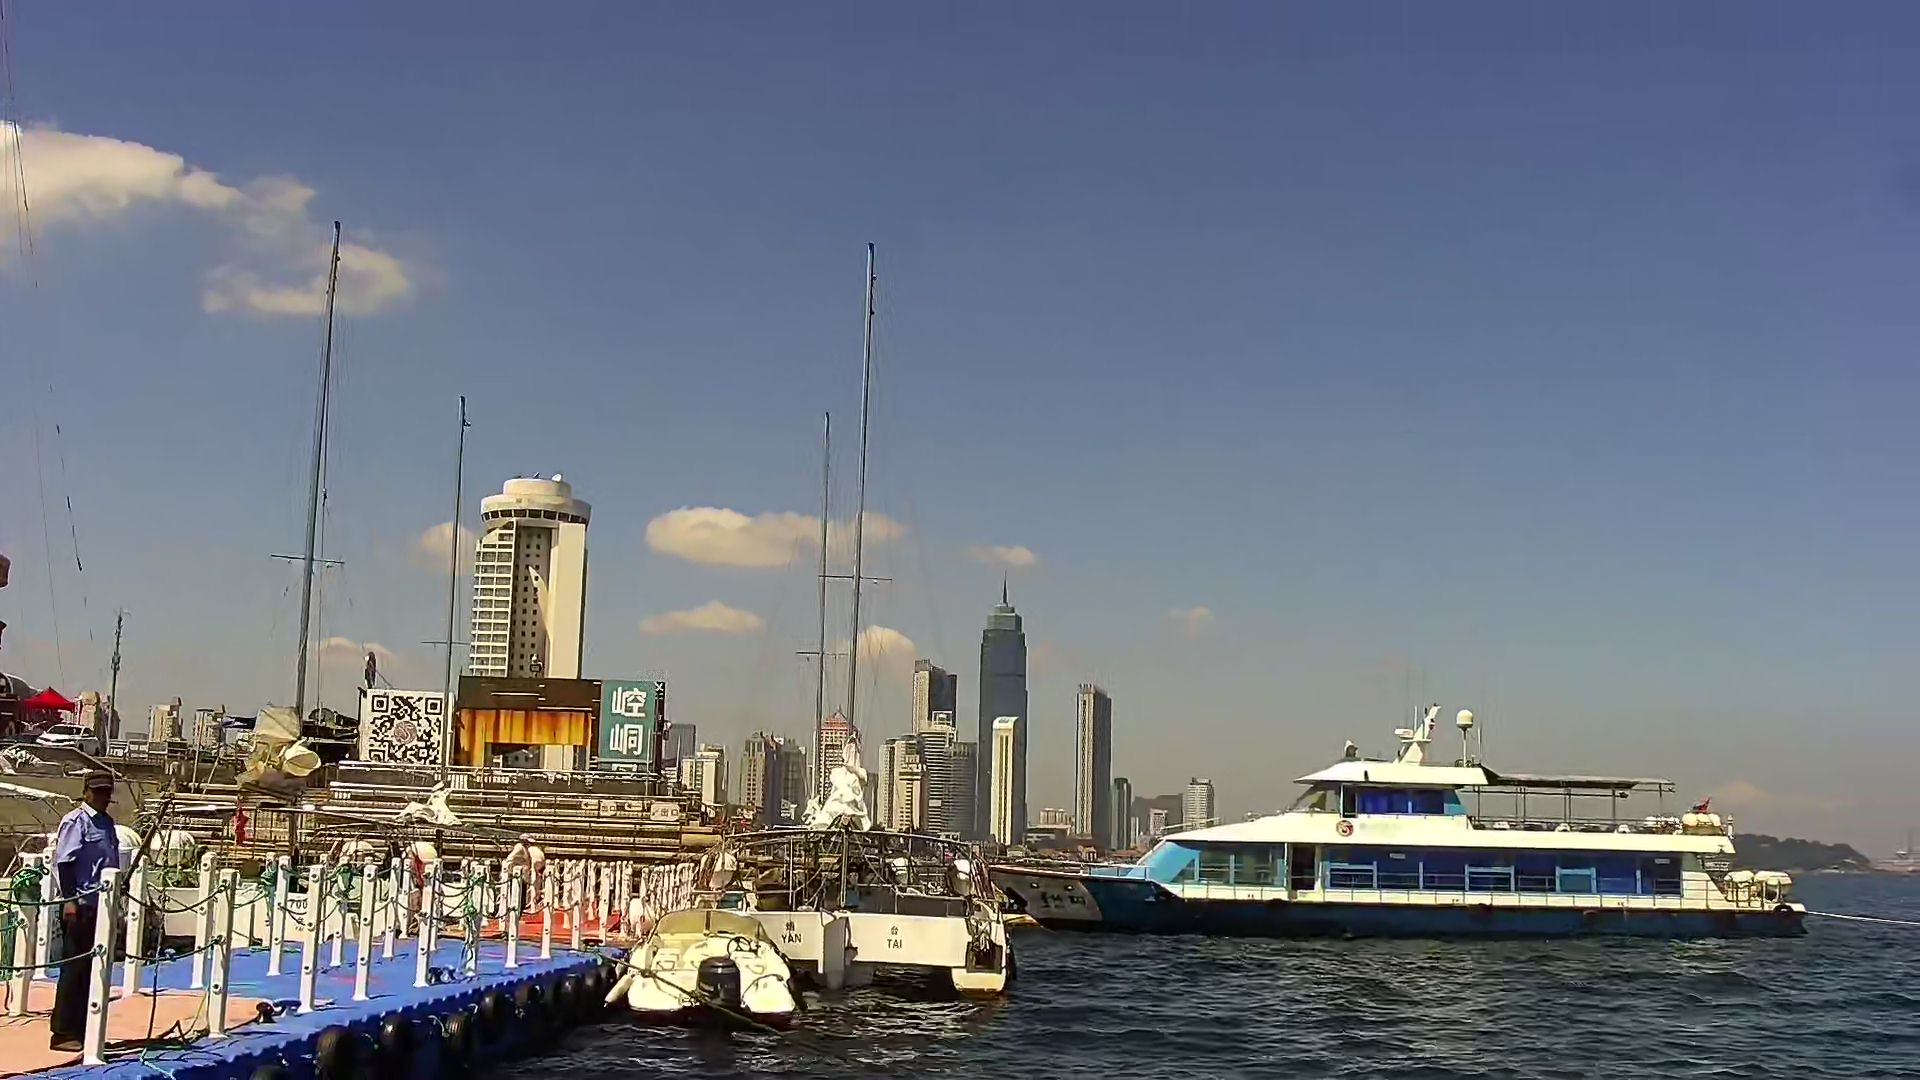boat: (669, 219, 1040, 1004), (131, 218, 415, 949), (599, 902, 815, 1033)
harbor: (11, 783, 613, 1075)
ship: (977, 694, 1832, 949)
